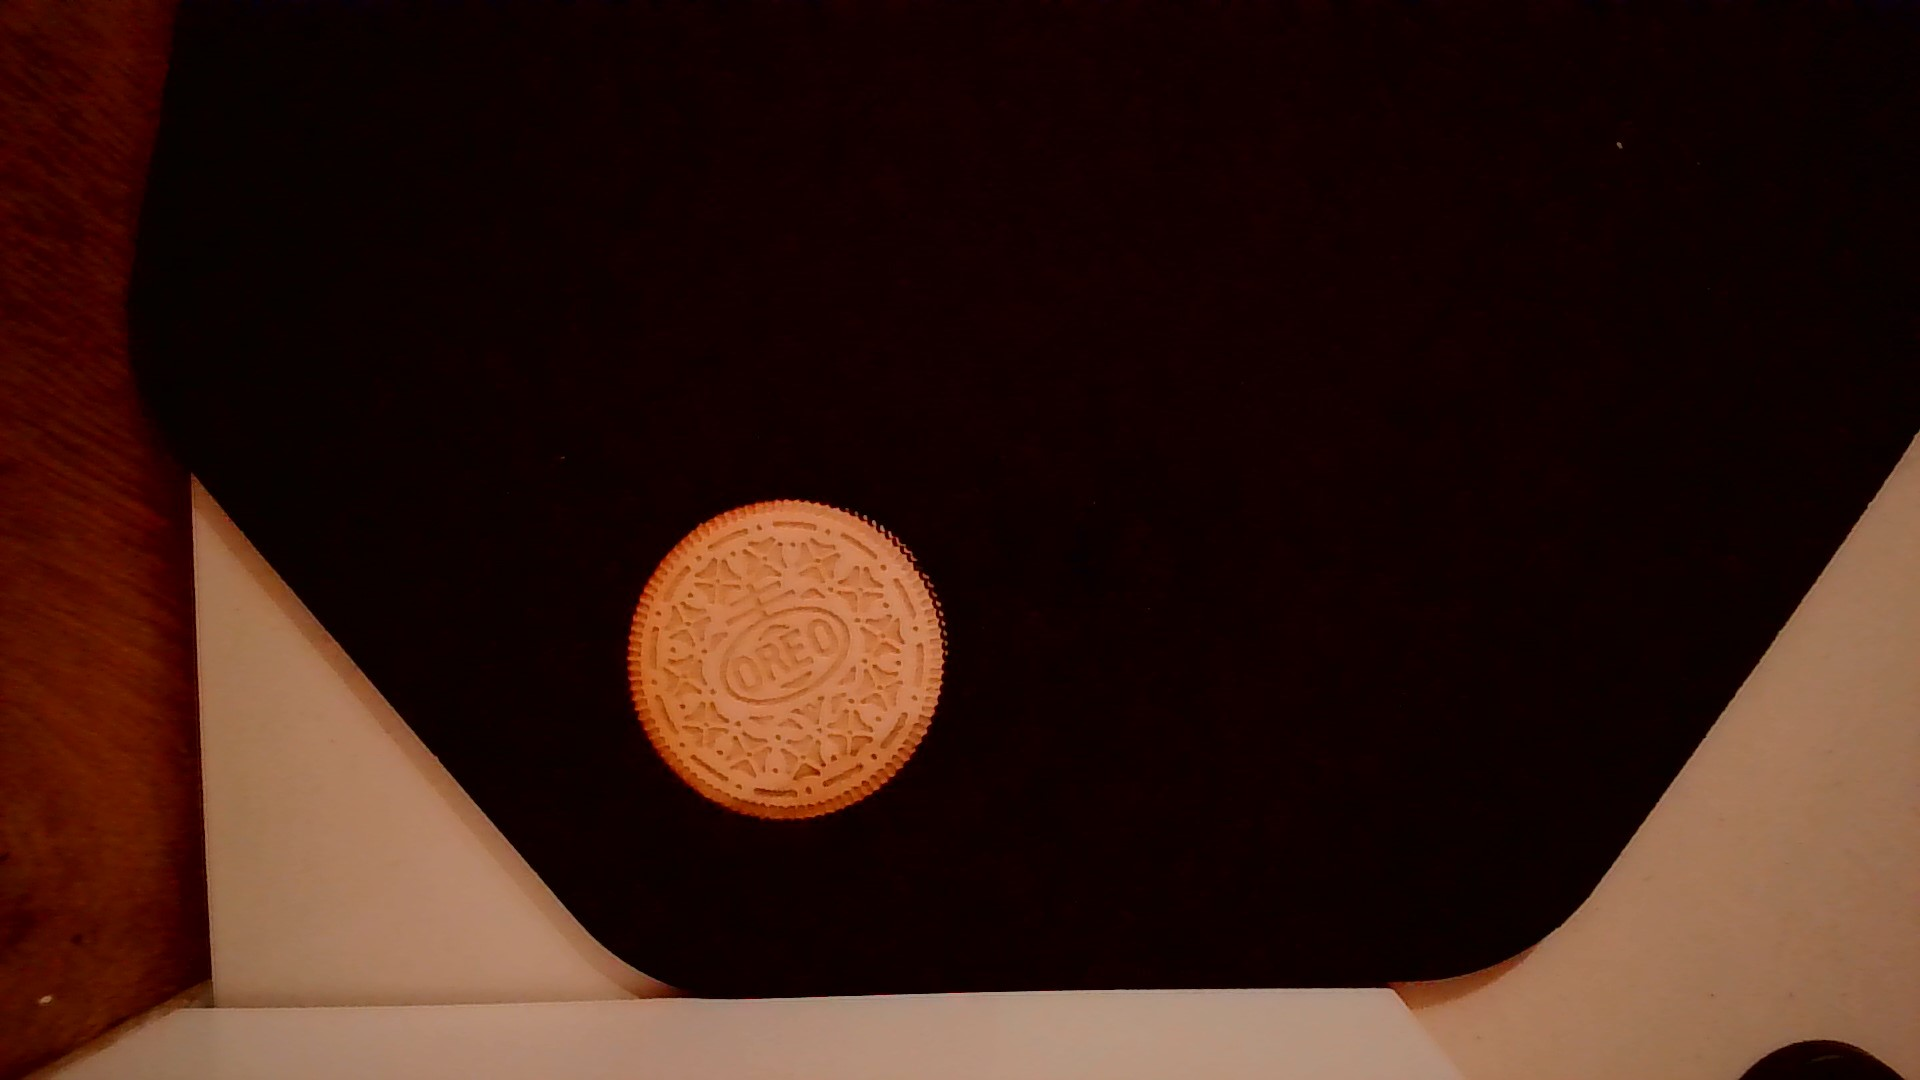Oréo: (618, 491, 952, 829)
